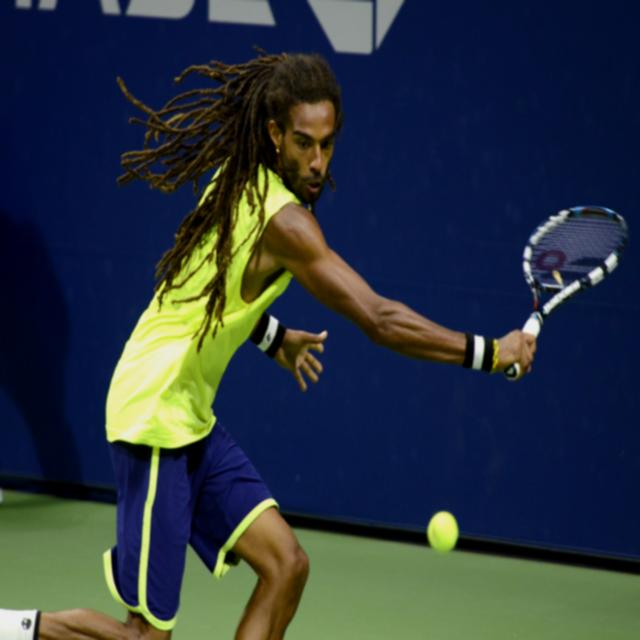Tennis ball: (426, 512, 456, 548)
